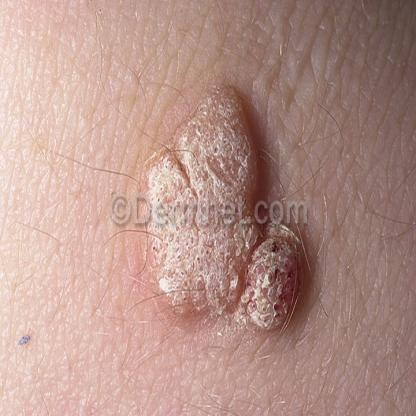Warts: (245, 224, 302, 340)
